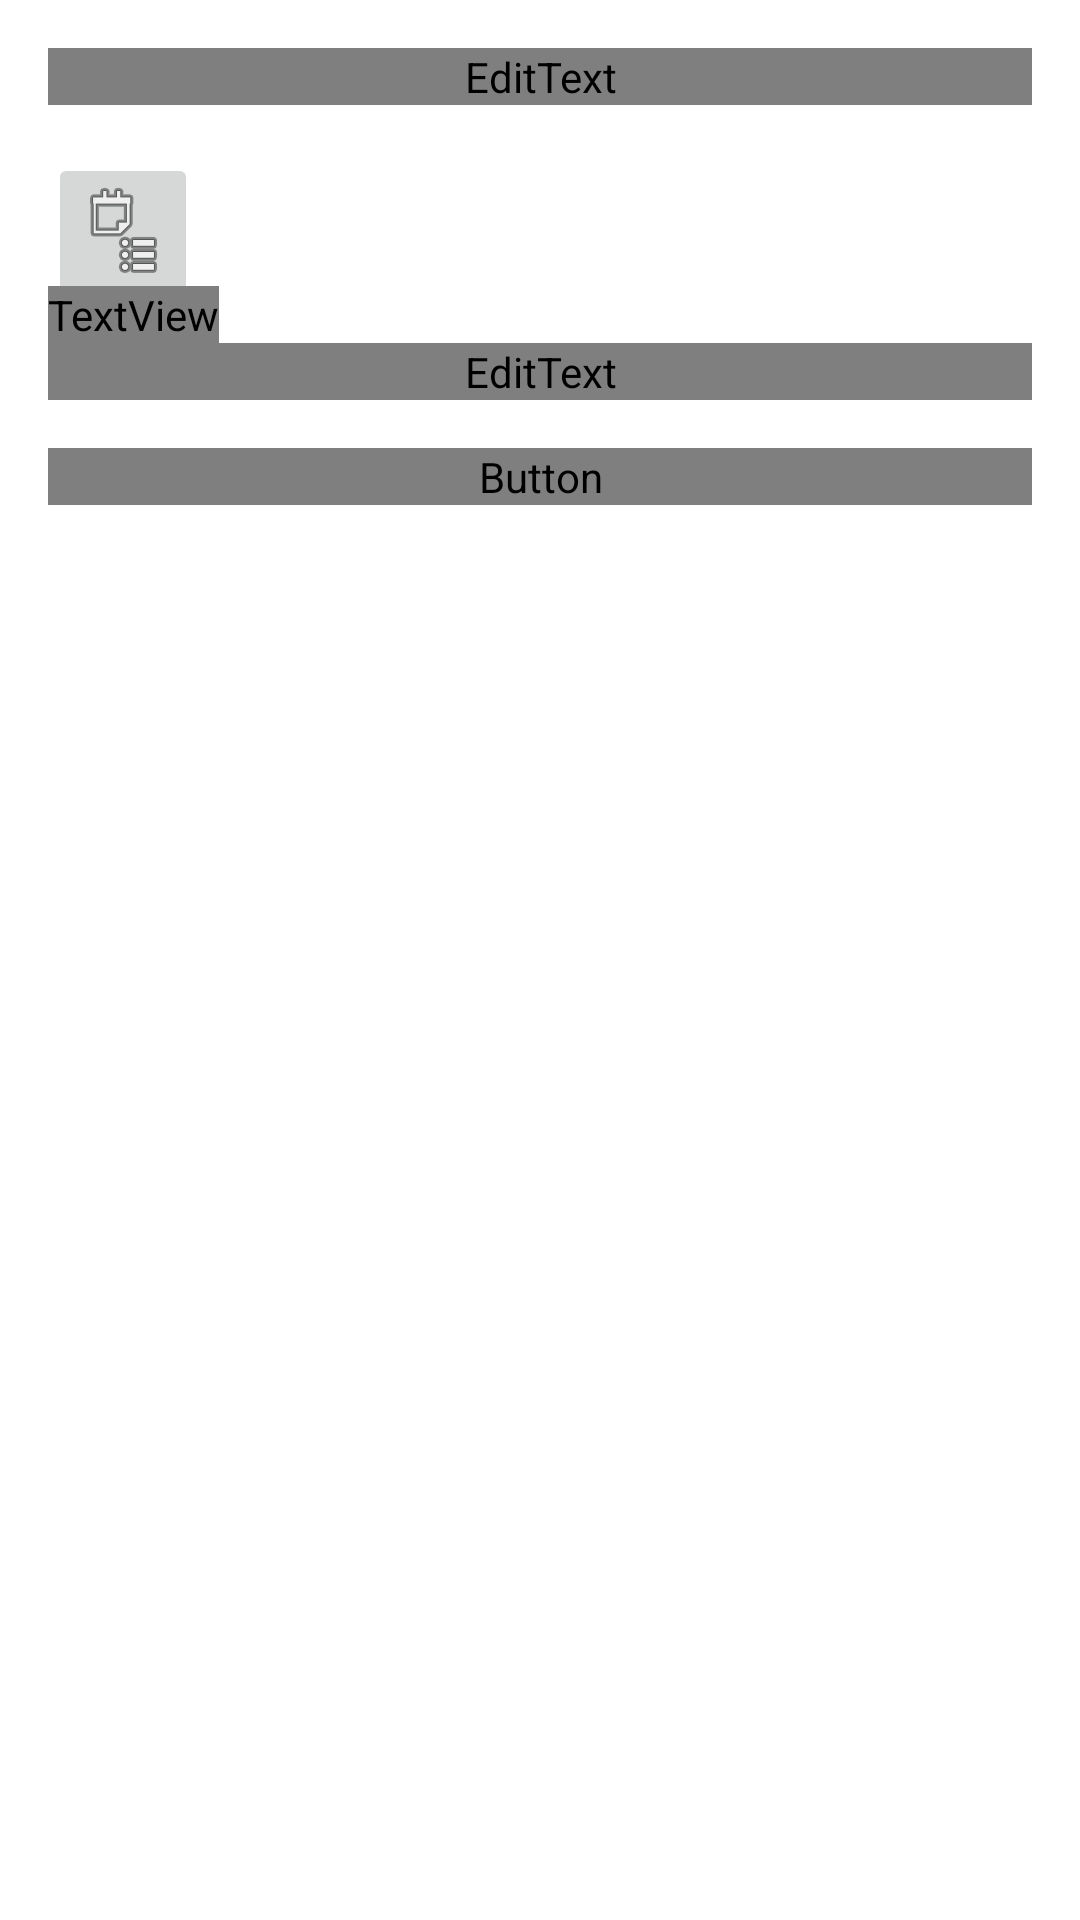

Screen size 1080px×1920px. Icon name, then its box in pixels as (x1, y1, x2, y2):
agenda: (48, 171, 198, 309)
